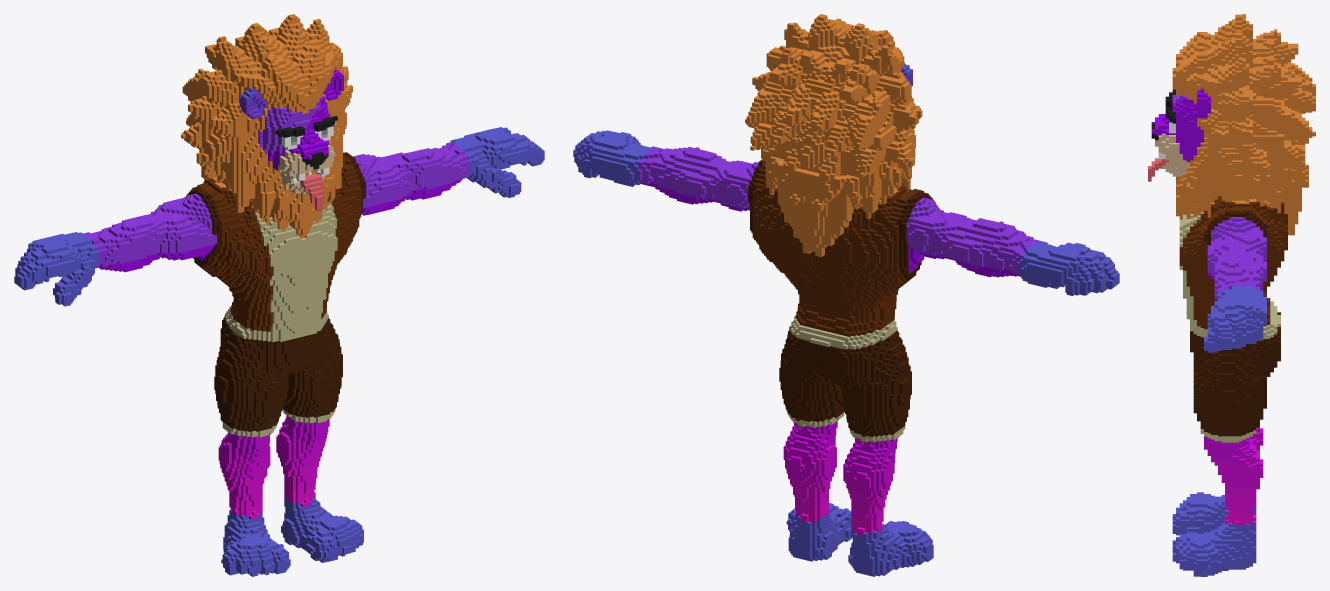
The model's file is 262-Bjx5M_91.glb.
3 views of the same model, side by side, from view 1: azimuth 30°, elevation 25°; view 2: azimuth 150°, elevation 25°; view 3: azimuth 270°, elevation 25° (orthographic). The views are drawn at different scales.
Visible parts, largest first — view 1: tongue_out; view 2: tongue_out; view 3: tongue_out.
Boxes of the visible parts, x1,y1,x2,y2 form: tongue_out: (14,14,544,576); tongue_out: (573,14,1119,576); tongue_out: (1148,14,1315,576).
Bounding box in the file's own units: 17.2 × 16.5 × 4.8.
Materials: 5 (5 with a texture image).
